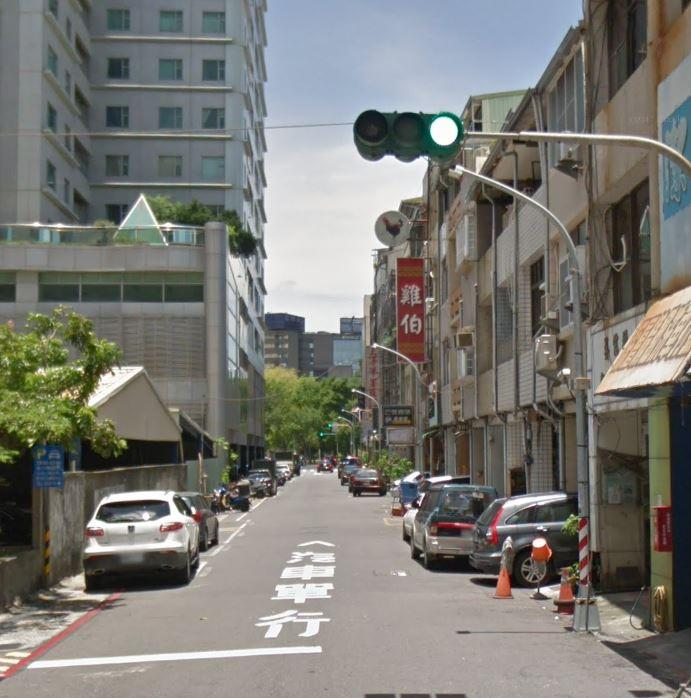green_traffic_light: (351, 106, 465, 164)
